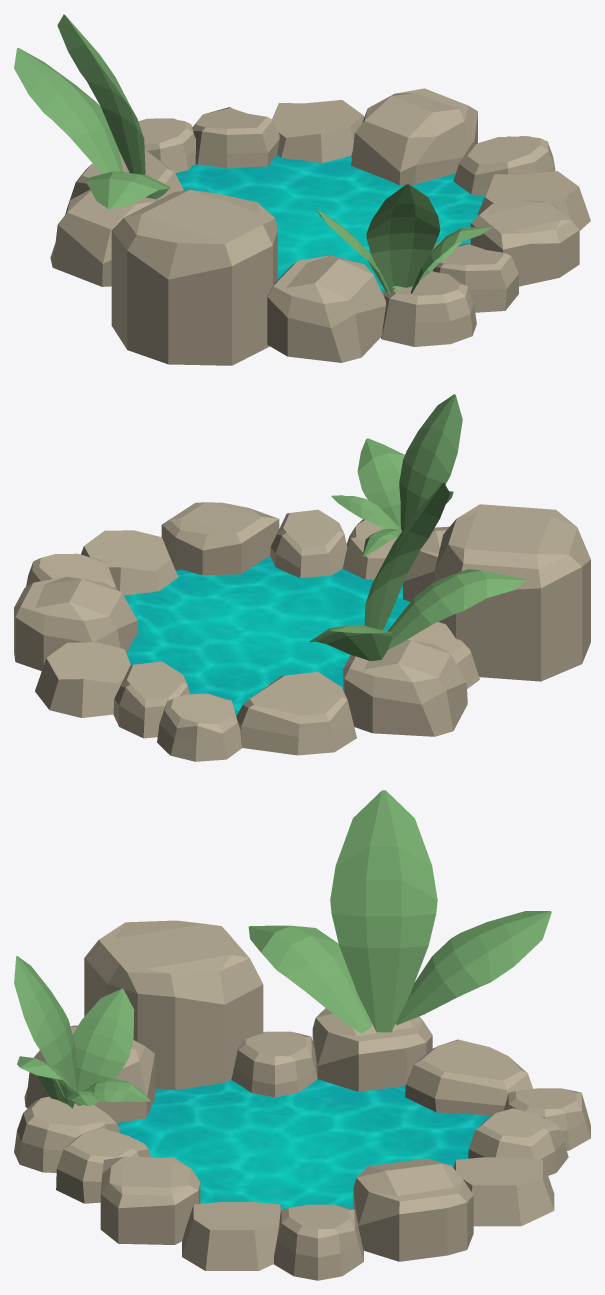
Rendered from hotspring.glb.
3 views of the same model, one above another, from view 1: azimuth 30°, elevation 25°; view 2: azimuth 150°, elevation 25°; view 3: azimuth 270°, elevation 25° (orthographic). The views are drawn at different scales.
Parts seen in each view (by area): view 1: rock6.002, Plane.001, rock4.003, rock1.005, rock8.002, Cube.046, Plane.004, Plane.007, rock1.003, Cube.084, Cube.083, Plane.002 (+8 smaller); view 2: Plane.001, rock6.002, rock1.003, rock1.005, Cube.031, rock8.002, Cube.084, Cube.044, Plane.007, Plane.005, Cube.047, Cube (+10 smaller); view 3: Plane.001, rock6.002, Plane.002, rock1.005, rock8.002, Plane.004, rock1.003, Cube.031, Plane.005, Cube, Cube.082, Cube.084 (+10 smaller).
Boxes of the visible parts, left/top/right/bottom form: rock6.002: left=111, top=190, right=277, bottom=365; Plane.001: left=175, top=155, right=484, bottom=292; rock4.003: left=267, top=255, right=385, bottom=362; rock1.005: left=351, top=88, right=477, bottom=185; rock8.002: left=470, top=200, right=579, bottom=286; Cube.046: left=381, top=271, right=476, bottom=346; Plane.004: left=14, top=48, right=123, bottom=173; Plane.007: left=366, top=184, right=440, bottom=292; rock1.003: left=50, top=189, right=166, bottom=286; Cube.084: left=272, top=100, right=364, bottom=162; Cube.083: left=192, top=107, right=279, bottom=168; Plane.002: left=57, top=14, right=145, bottom=174; Plane.001: left=124, top=557, right=410, bottom=715; rock6.002: left=435, top=504, right=590, bottom=681; rock1.003: left=343, top=640, right=467, bottom=736; rock1.005: left=14, top=576, right=138, bottom=670; Cube.031: left=236, top=672, right=356, bottom=755; rock8.002: left=161, top=502, right=279, bottom=575; Cube.084: left=35, top=642, right=130, bottom=717; Cube.044: left=157, top=693, right=242, bottom=761; Plane.007: left=399, top=394, right=462, bottom=530; Plane.005: left=388, top=569, right=526, bottom=649; Cube.047: left=270, top=509, right=347, bottom=577; Cube: left=81, top=530, right=178, bottom=595; Plane.001: left=117, top=1079, right=491, bottom=1209; rock6.002: left=84, top=920, right=263, bottom=1090; Plane.002: left=330, top=790, right=437, bottom=1032; rock1.005: left=353, top=1158, right=473, bottom=1261; rock8.002: left=100, top=1156, right=200, bottom=1244; Plane.004: left=395, top=911, right=551, bottom=1024; rock1.003: left=312, top=1008, right=432, bottom=1091; Cube.031: left=405, top=1039, right=532, bottom=1115; Plane.005: left=248, top=925, right=371, bottom=1033; Cube: left=182, top=1202, right=281, bottom=1270; Cube.082: left=274, top=1204, right=363, bottom=1280; Cube.084: left=453, top=1157, right=554, bottom=1226.
Size of the model in its own units: 11.84 by 5.7 by 11.48.
Materials: 14 (1 with a texture image).
